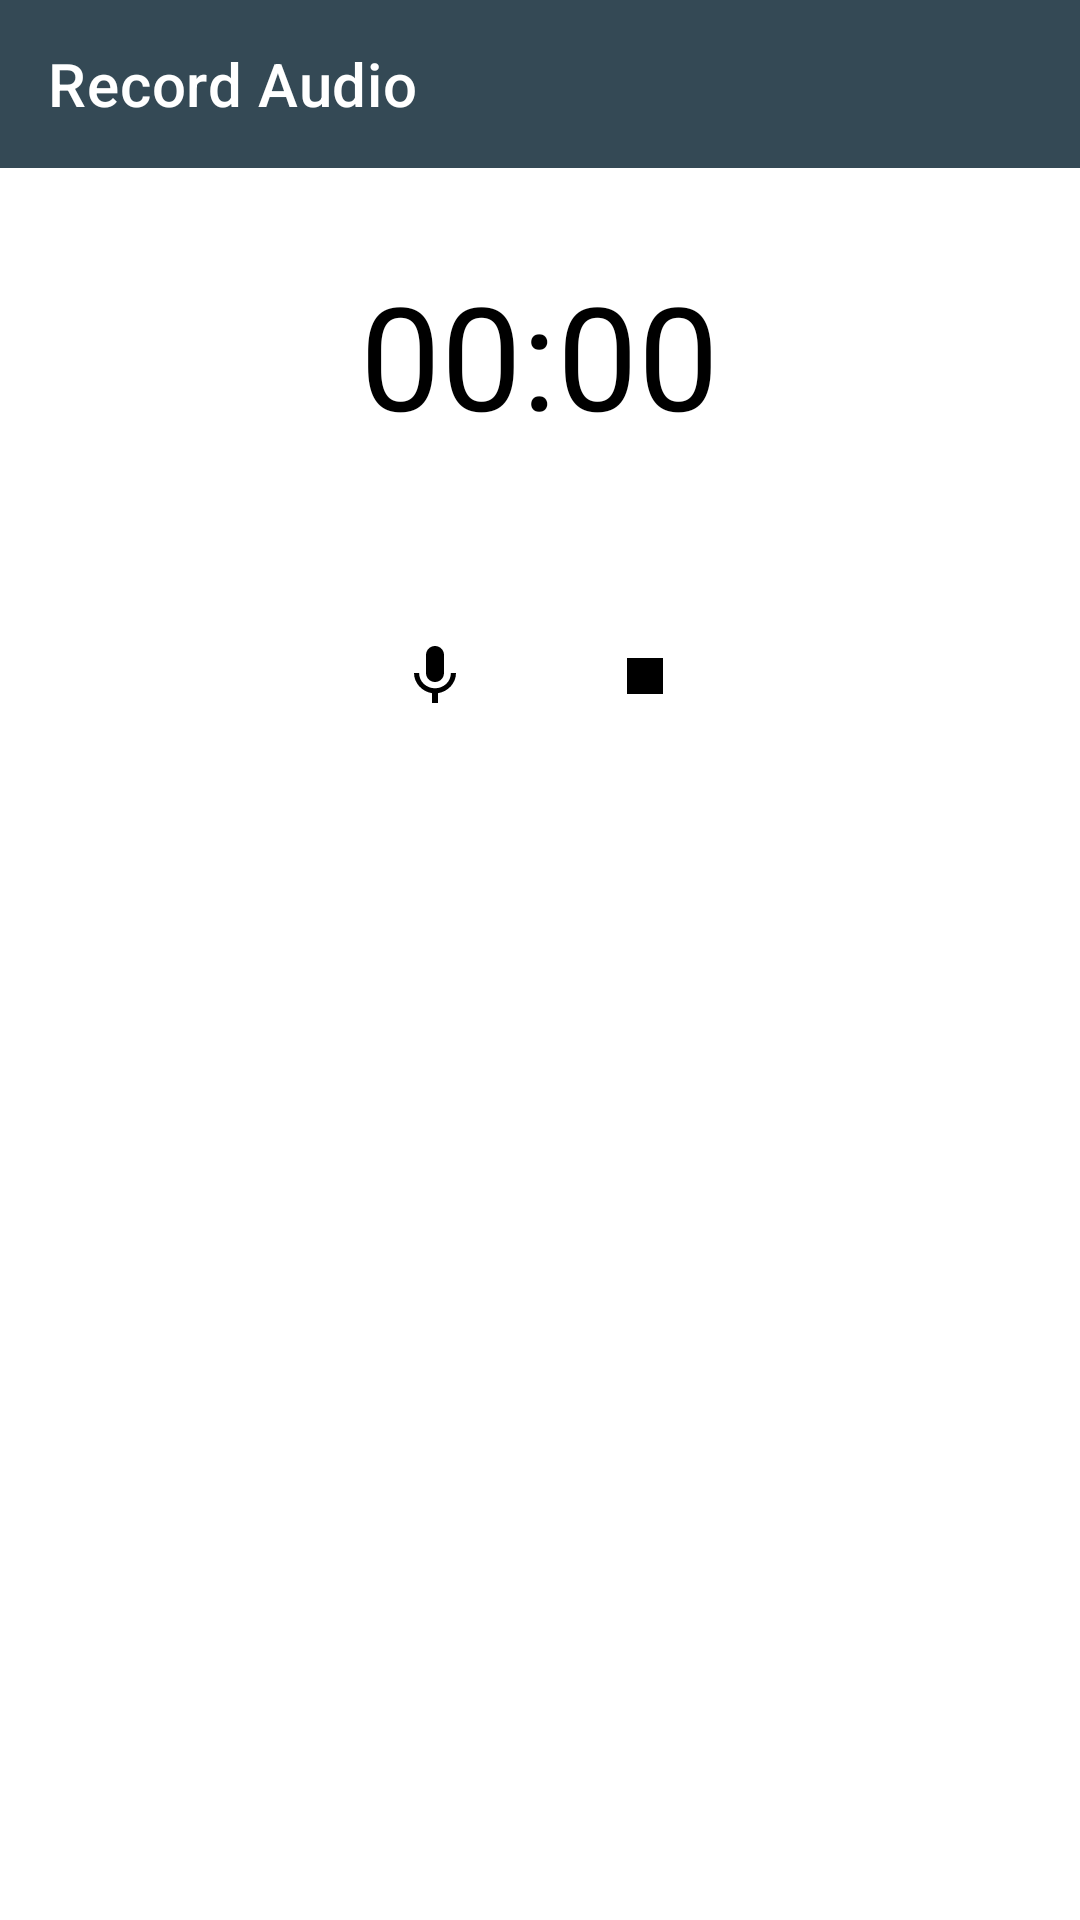

Point at icon controls on the screen. Image size 1080×1920, points as [x,y].
Start Recording: [435,674]
